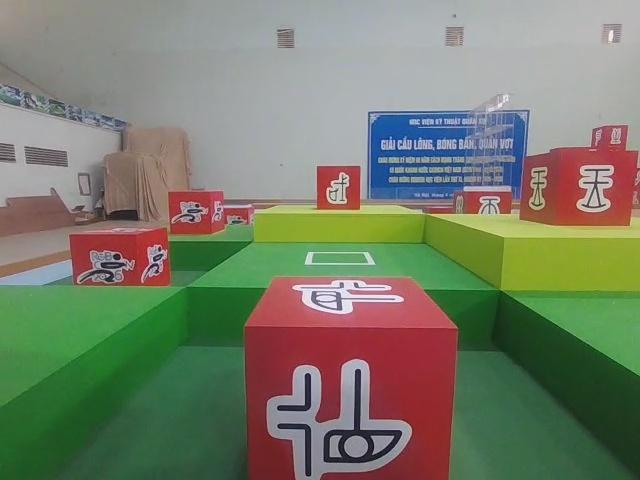R1: (67, 227, 173, 289), (167, 187, 228, 235)
R2 Real: (244, 277, 459, 480), (519, 149, 635, 225), (317, 167, 360, 212)
